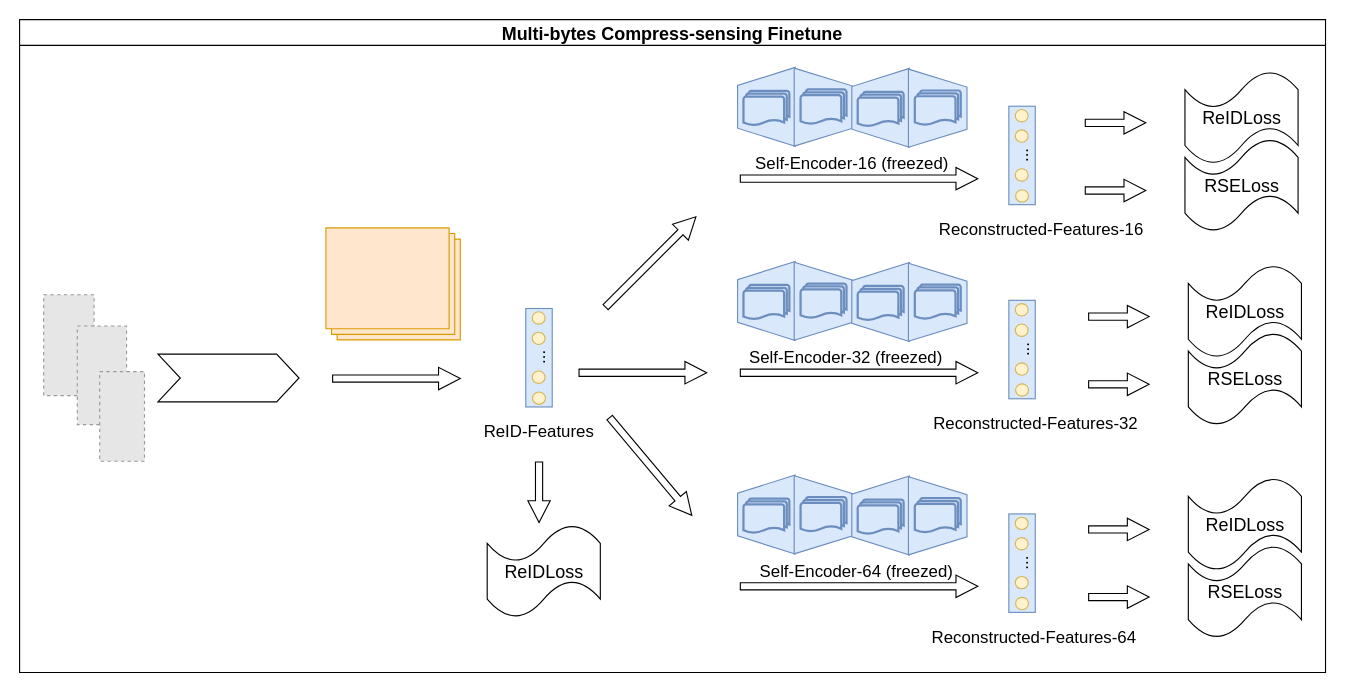
The diagram is 1345 pixels wide and 692 high, and some of its shapes have lost their labels. Grey dashed boxes stand in for pictures. The shapes that lost their labels are listed below. From the top down, each one's centre as x and y in pixels, then its label:
the point at 392,283: ReID-Net
the point at 228,377: data augmentation
